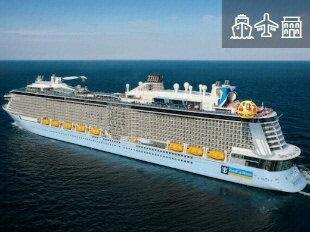Ship: (10, 69, 303, 191)
